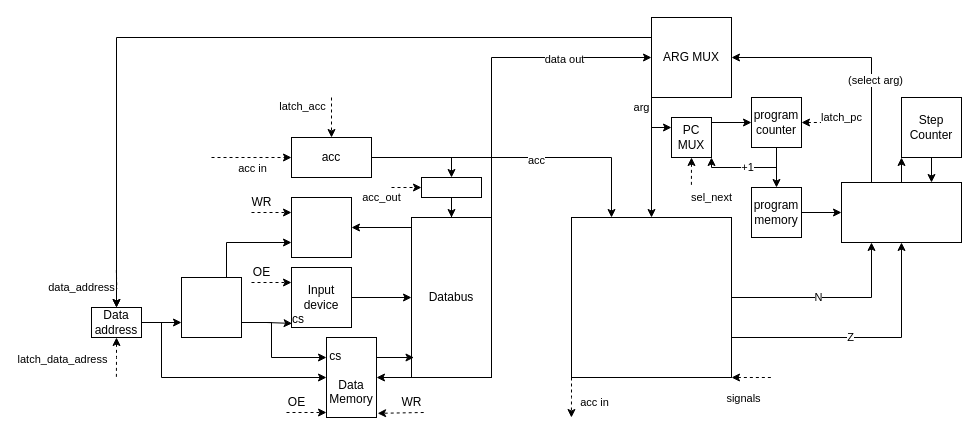
Some shapes in this 979 by 443 pixel diagram are drawn without their labels. Here are the shapes that lost their labels. From the top down, the centre of each, then its label:
At point (451, 187): "and".
At point (321, 227): "Output device cs".
At point (901, 212): "Instruction Decoder".
At point (211, 307): "Address Decoder".
At point (651, 297): "ALU".
